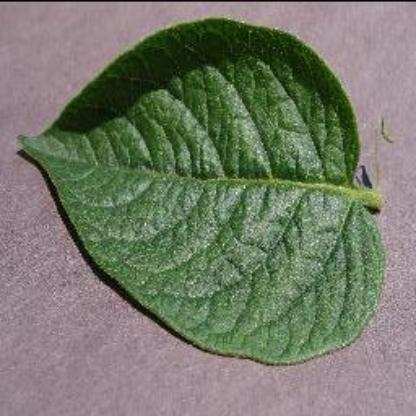Healthy-plant: (15, 16, 387, 370)
